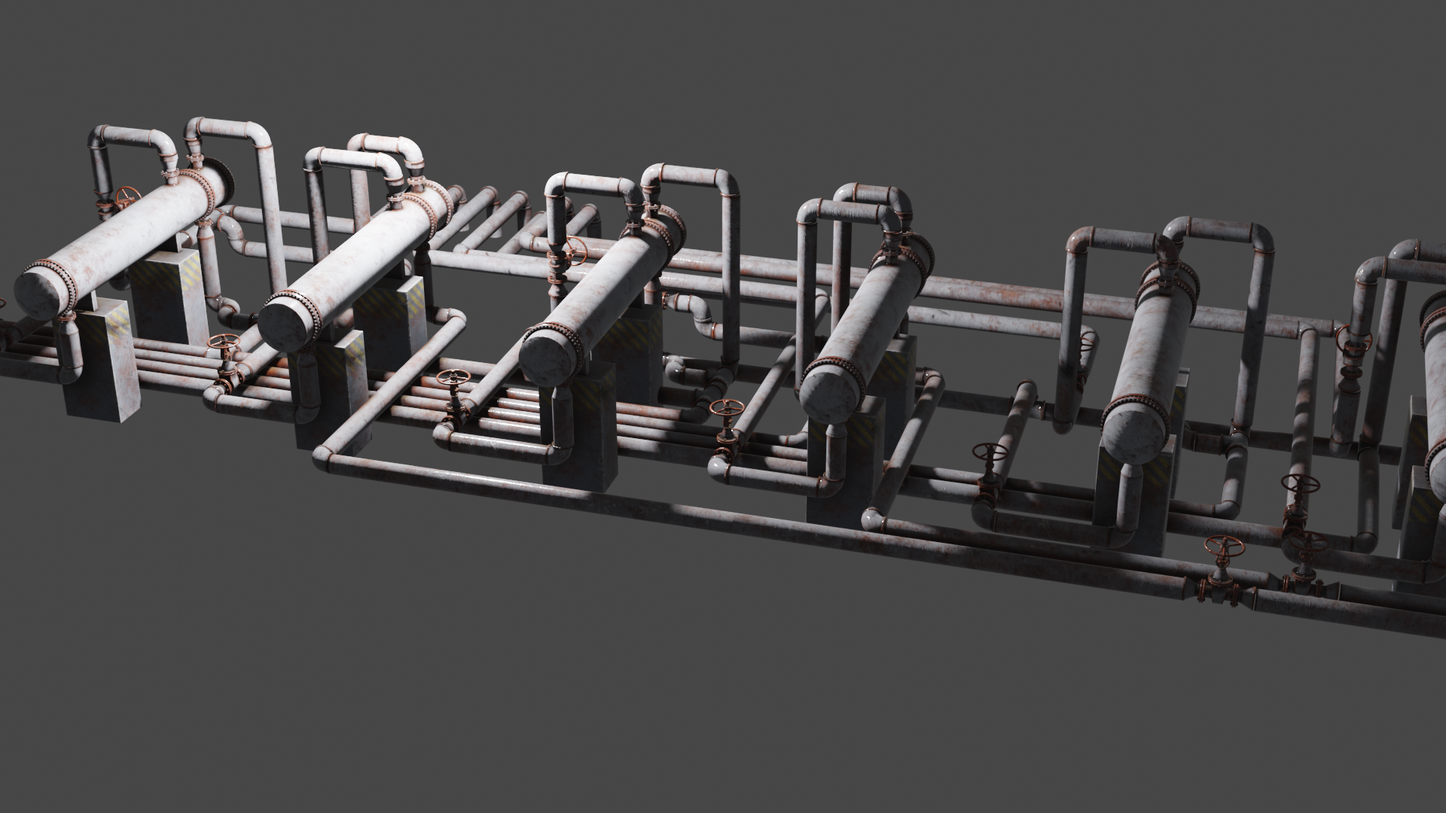HE_1: (1418, 286, 1446, 511)
HE_2: (1098, 256, 1203, 468)
HE_3: (796, 224, 941, 430)
HE_4: (515, 198, 688, 389)
HE_5: (252, 176, 451, 354)
HE_6: (10, 153, 238, 320)
